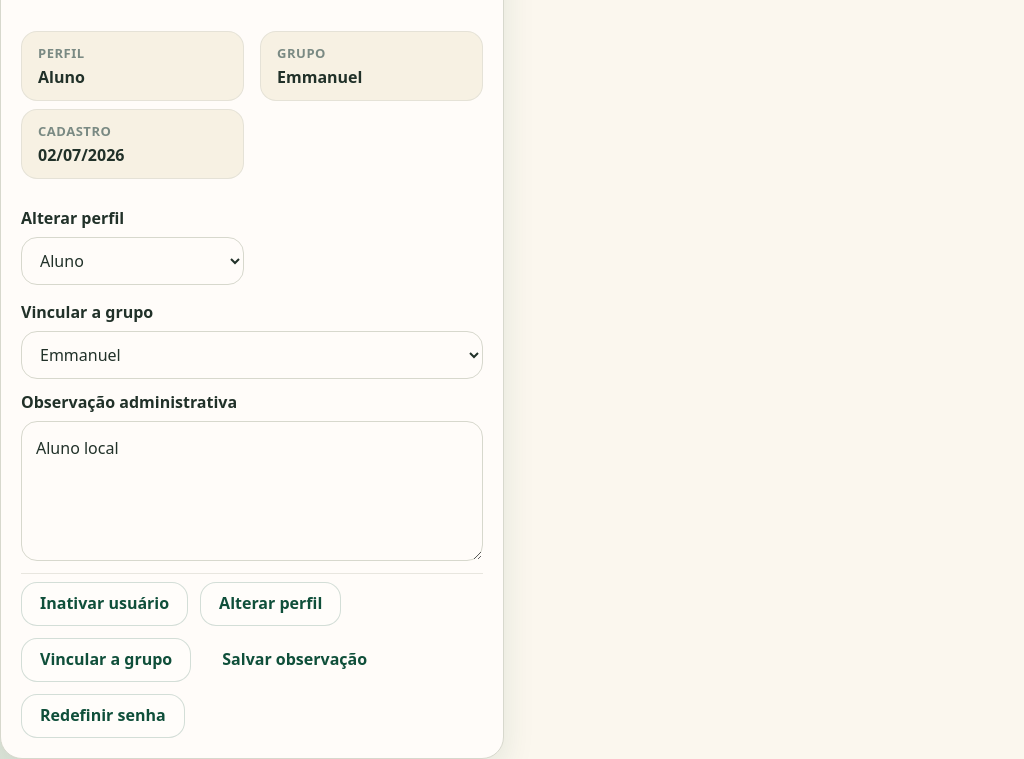
Scenario: admin password reset ui › mostra o erro da API quando a redefinição falha
(page scrolled)
Click the button with aria-label "Redefinir senha de Aluno Demonstrativo".
click(103, 716)  # box [21, 694, 185, 738]
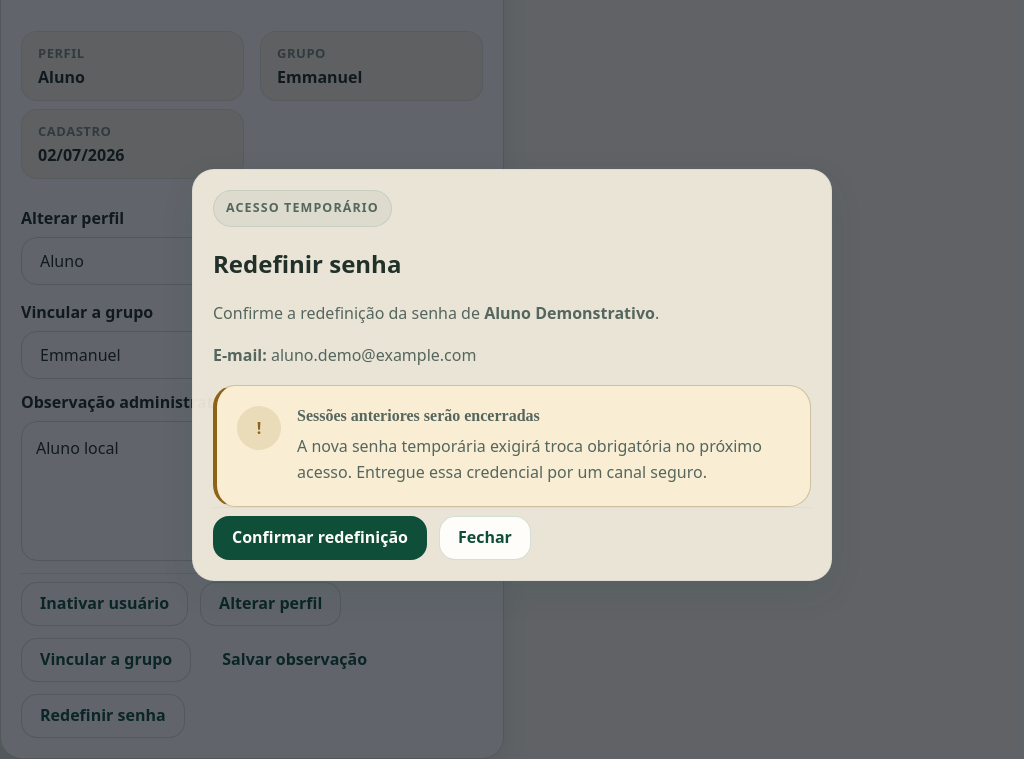
Click the button "Confirmar redefinição".
click(320, 538)  # box [213, 516, 427, 560]
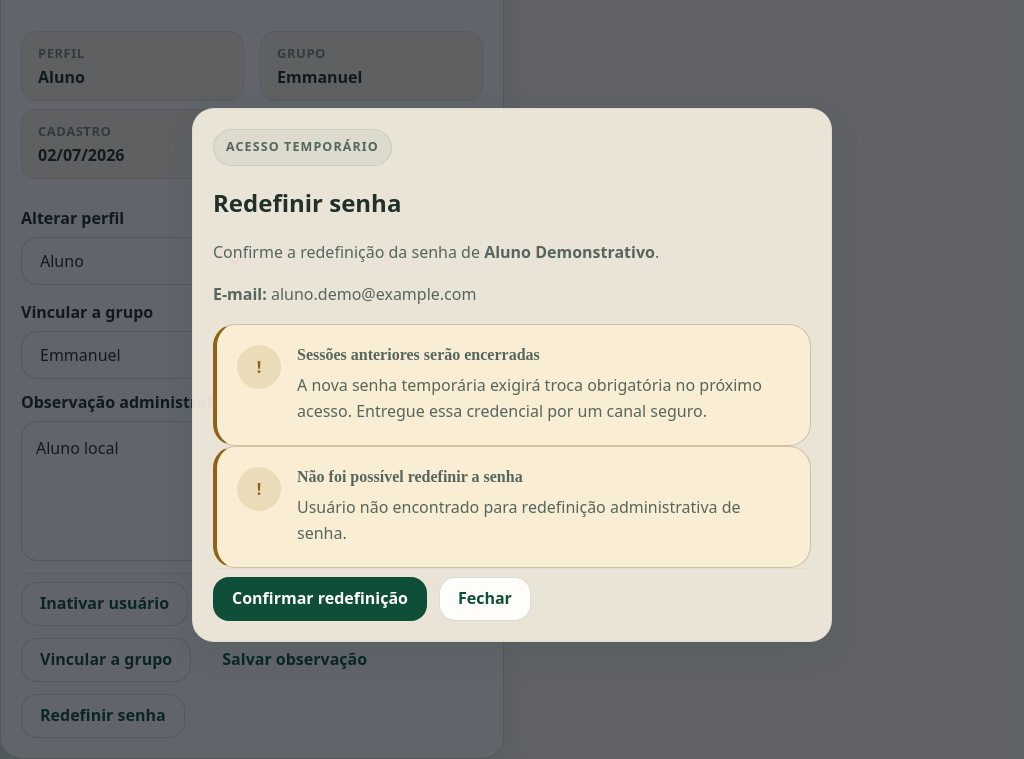
Now the text "Usuário não encontrado para redefinição administrativa de senha." is shown, box [297, 494, 790, 547]
